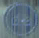bike lane: (1, 2, 38, 36)
